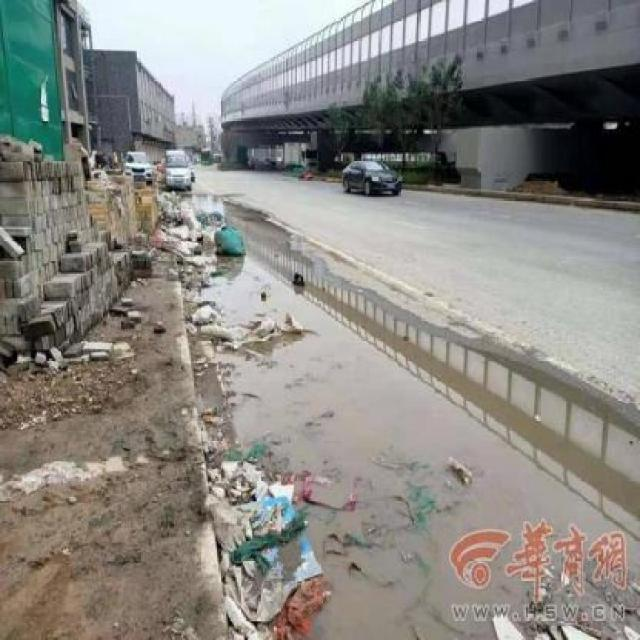garbage: (202, 406, 320, 634), (331, 468, 435, 561), (149, 190, 246, 263), (186, 271, 242, 356), (248, 309, 301, 336), (445, 457, 484, 490)
